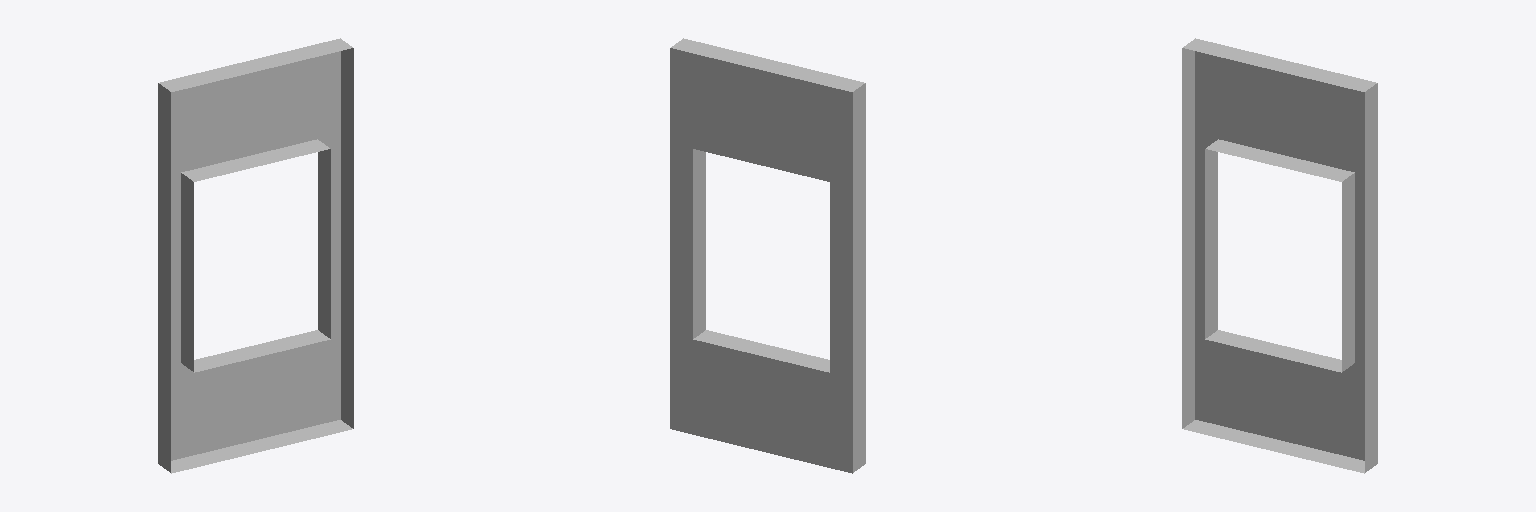
File: wall_modular_panelled_bakery_window_small_B.obj
3 renders of one model, left to right at view 1: azimuth 30°, elevation 25°; view 2: azimuth 150°, elevation 25°; view 3: azimuth 330°, elevation 25°, orthographic.
Visible parts, largest first — view 1: wall_modular_panelled_bakery_window_small_B; view 2: wall_modular_panelled_bakery_window_small_B; view 3: wall_modular_panelled_bakery_window_small_B.
Boxes of the visible parts, x1,y1,x2,y2 form: wall_modular_panelled_bakery_window_small_B: [158, 38, 353, 473]; wall_modular_panelled_bakery_window_small_B: [670, 38, 865, 473]; wall_modular_panelled_bakery_window_small_B: [1182, 38, 1377, 473].
Bounding box in the file's own units: 2 × 4 × 0.25.